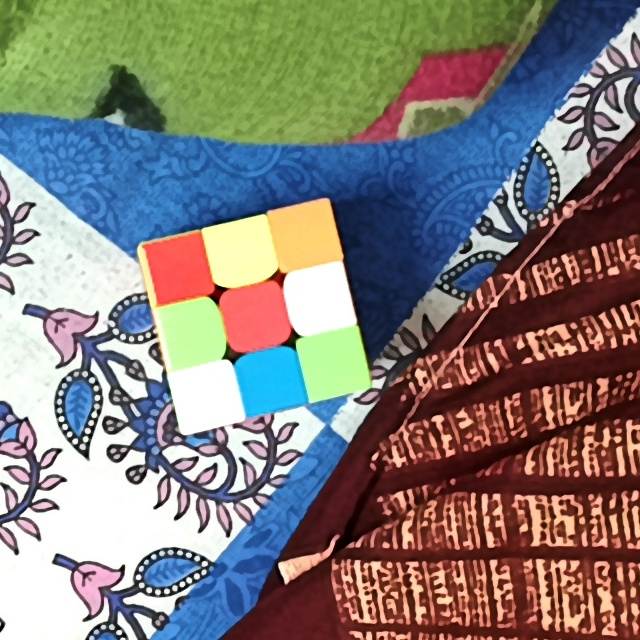tile: (211, 229, 266, 277), (295, 277, 343, 328), (181, 375, 231, 423), (168, 312, 215, 361), (312, 342, 357, 392), (155, 246, 201, 293), (246, 362, 294, 407), (232, 296, 282, 338), (280, 220, 331, 257)
